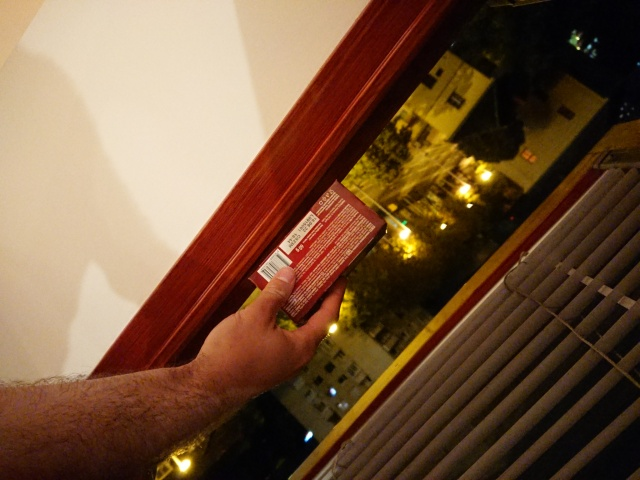Franck Apple Cinnamon Tea 60g: (244, 175, 389, 328)
